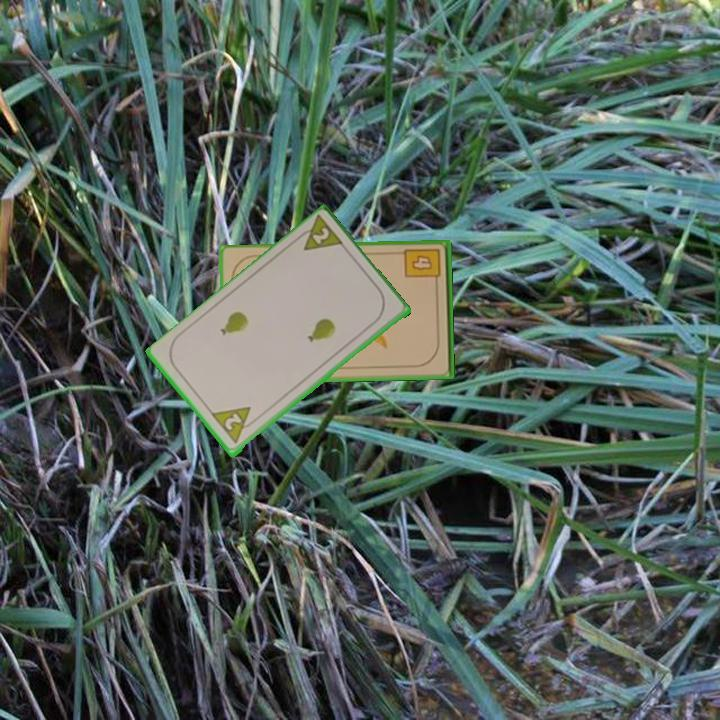2p: (291, 213, 347, 254), (209, 403, 261, 447)
4b: (401, 245, 444, 289)
